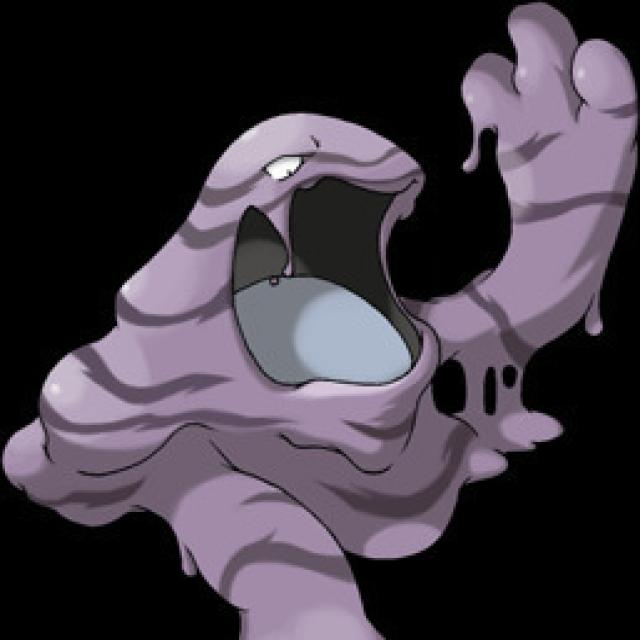Muk: (112, 112, 470, 557)
